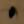cockroach: (9, 6, 16, 18)
